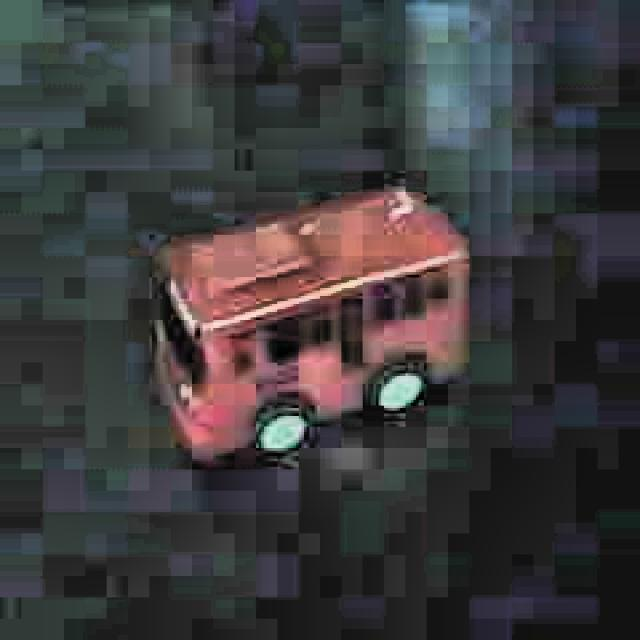bus: (148, 178, 477, 476)
